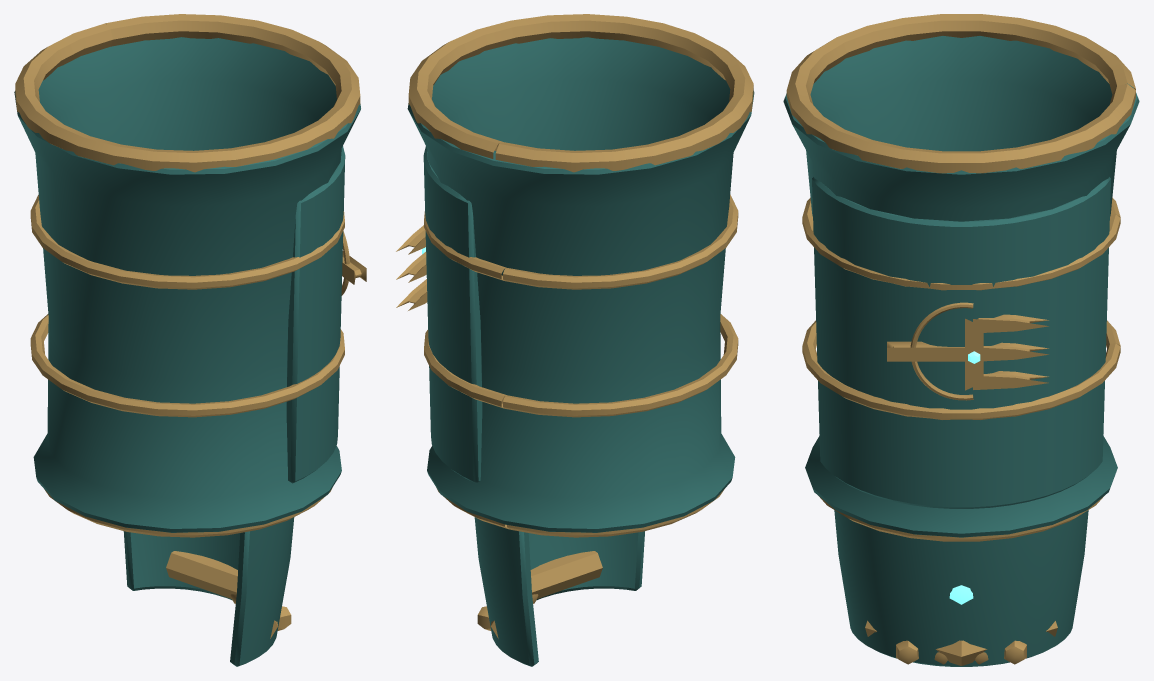
The model's file is boss_sunken_crown_gloves_1.glb.
3 renders of one model, left to right at view 1: azimuth 30°, elevation 25°; view 2: azimuth 150°, elevation 25°; view 3: azimuth 270°, elevation 25°, orthographic.
Visible parts, largest first — view 1: boss_sunken_crown_gloves_1, AT_hand_L; view 2: boss_sunken_crown_gloves_1, AT_hand_L; view 3: boss_sunken_crown_gloves_1, AT_hand_L.
Boxes of the visible parts, left/top/right/bottom form: boss_sunken_crown_gloves_1: left=14, top=14, right=366, bottom=537; AT_hand_L: left=123, top=517, right=294, bottom=666; boss_sunken_crown_gloves_1: left=396, top=14, right=754, bottom=537; AT_hand_L: left=474, top=517, right=644, bottom=666; boss_sunken_crown_gloves_1: left=783, top=14, right=1139, bottom=541; AT_hand_L: left=834, top=510, right=1088, bottom=666.
Size of the model in its own units: 0.1981 by 0.3408 by 0.2004.
